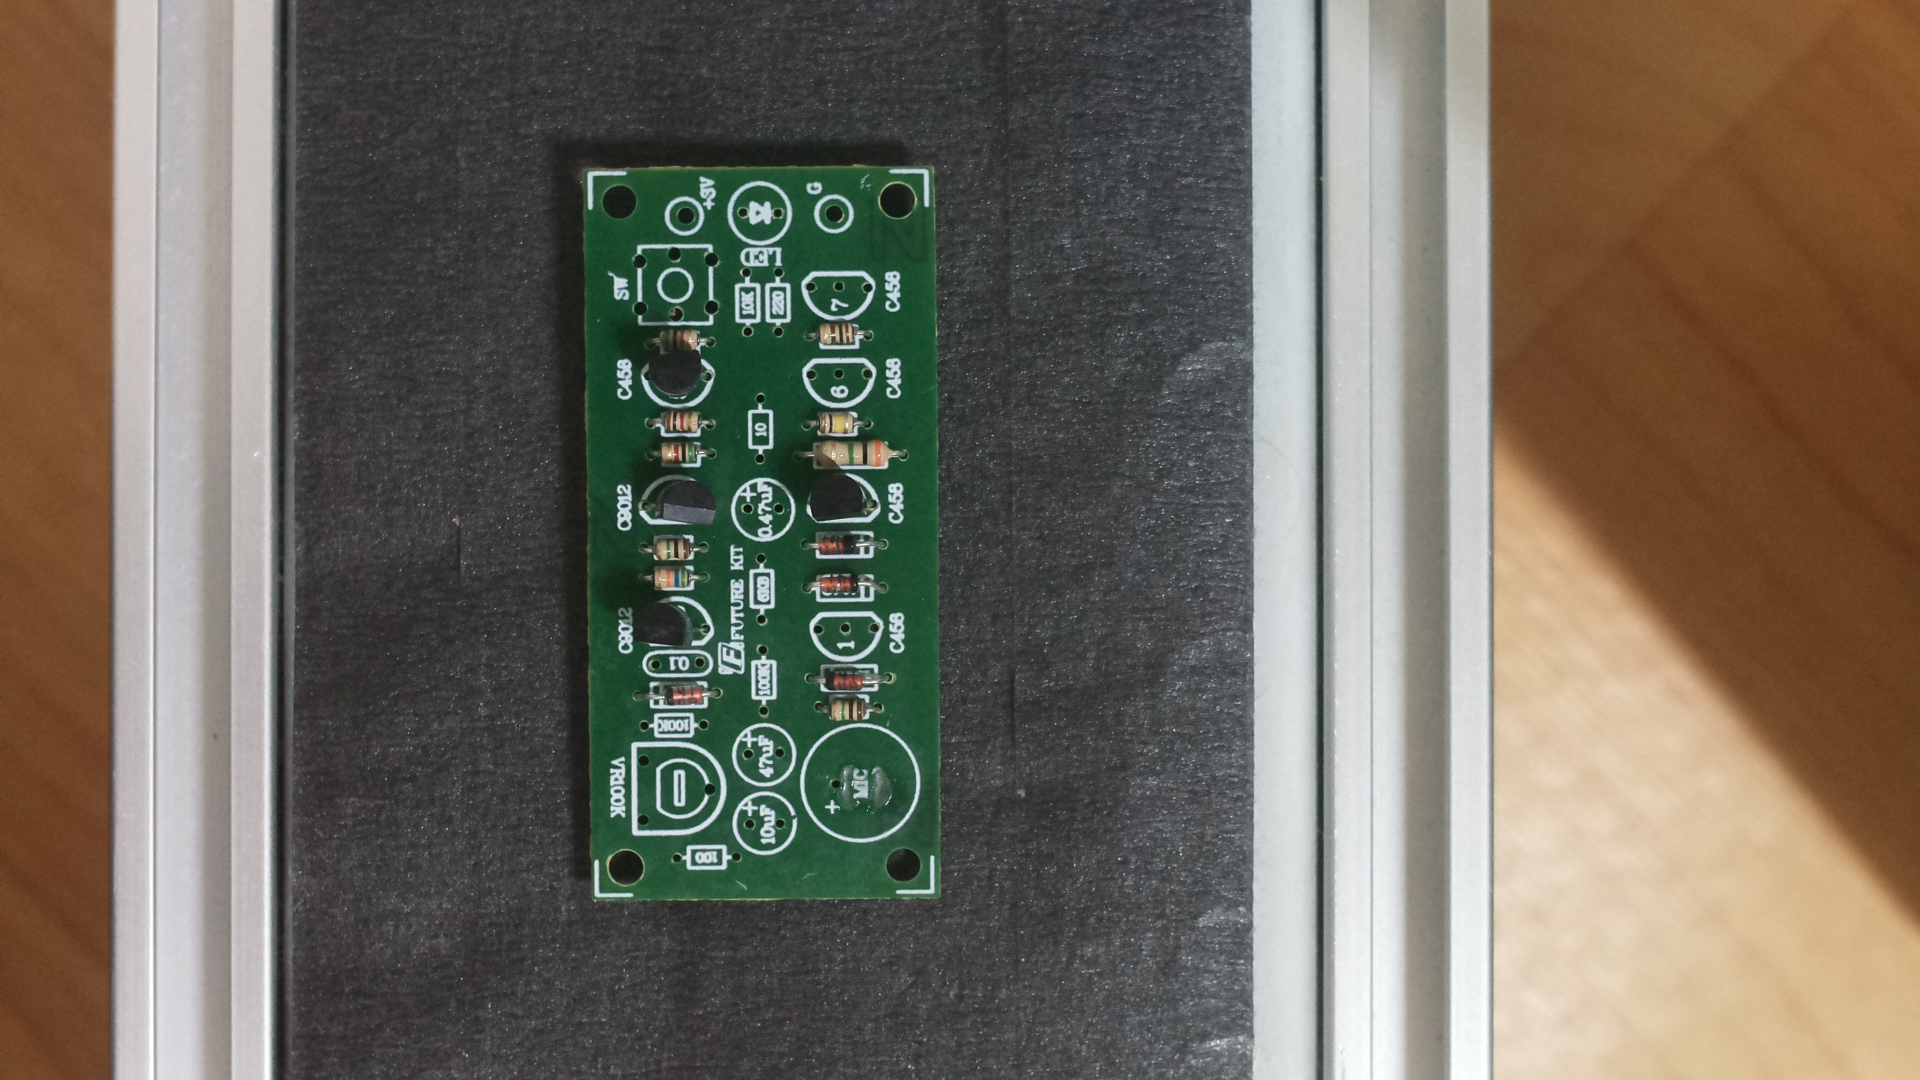A_Missing_part: (567, 154, 961, 926)
